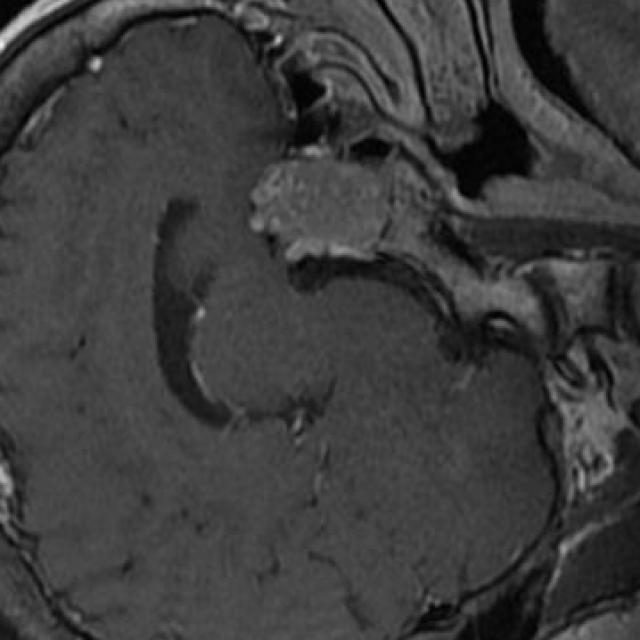pituitary: (250, 159, 385, 264)
